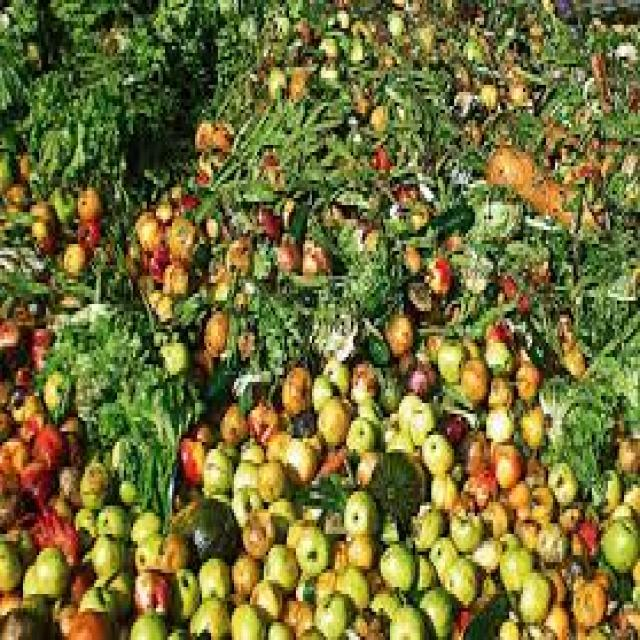food_waste: (22, 16, 627, 631), (49, 65, 595, 369), (205, 415, 614, 606)
